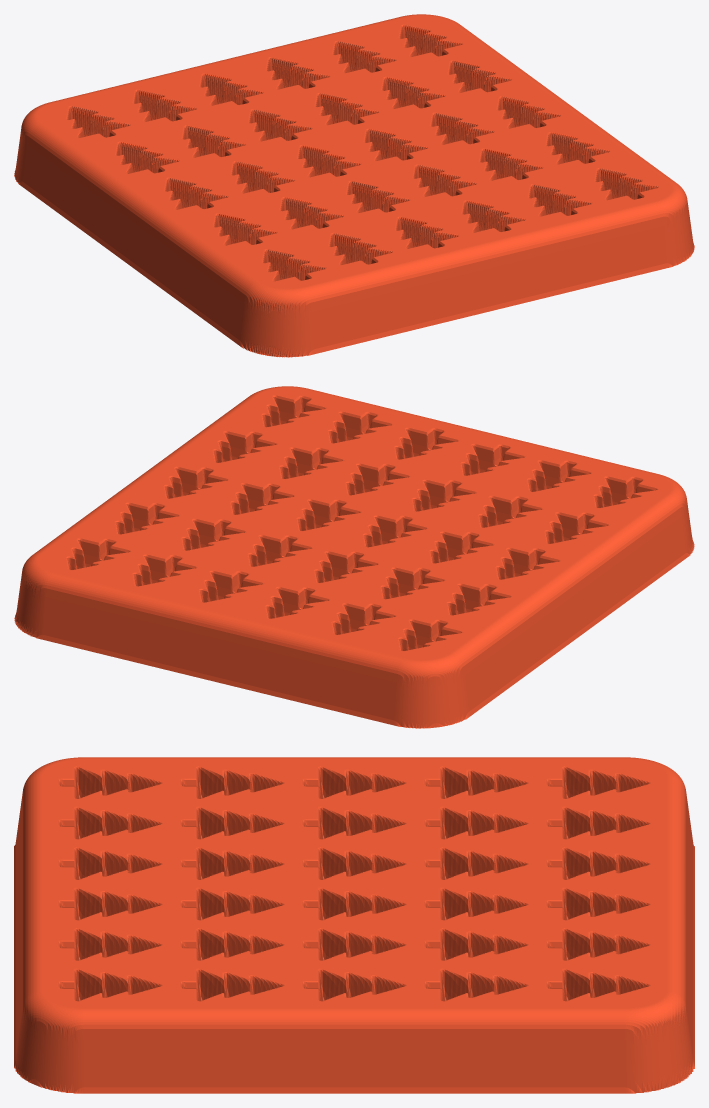
The model's file is mold.glb.
The picture shows the model from 3 angles, top to bottom: view 1: azimuth 30°, elevation 25°; view 2: azimuth 150°, elevation 25°; view 3: azimuth 270°, elevation 25°; orthographic projection. The views are drawn at different scales.
Parts seen in each view (by area): view 1: geometry_0; view 2: geometry_0; view 3: geometry_0.
Part boxes in pixels (bbox=[...]): geometry_0: bbox=[14, 14, 694, 357]; geometry_0: bbox=[14, 386, 694, 728]; geometry_0: bbox=[14, 757, 694, 1093].
Bounding box in the file's own units: 0.0836 × 0.0105 × 0.0882.
